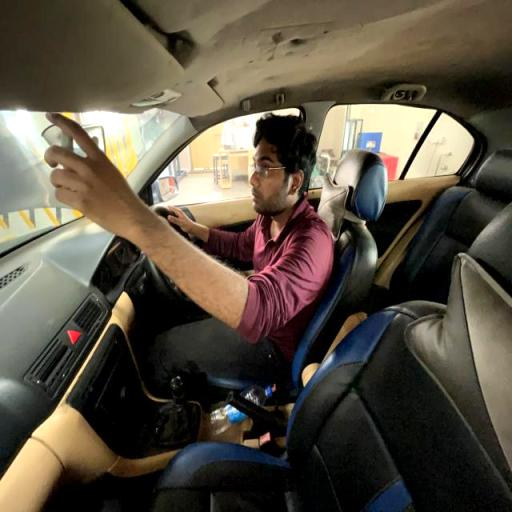Hair Mirror: (38, 112, 339, 343)
